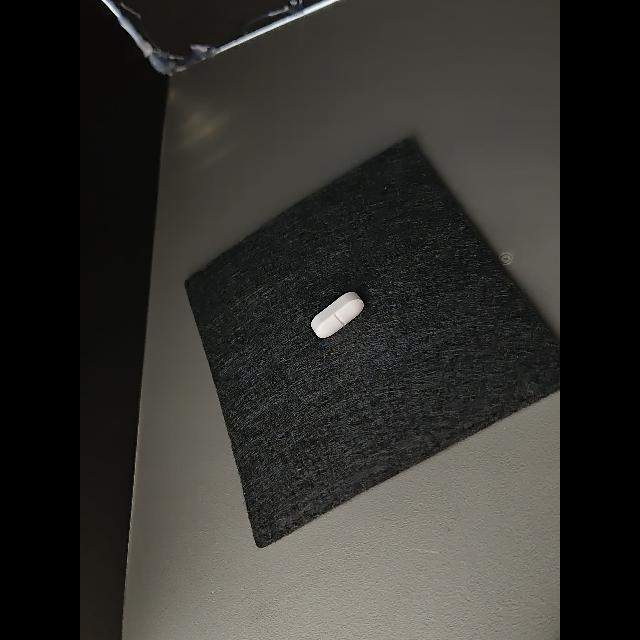Intact Pill: (311, 292, 364, 338)
